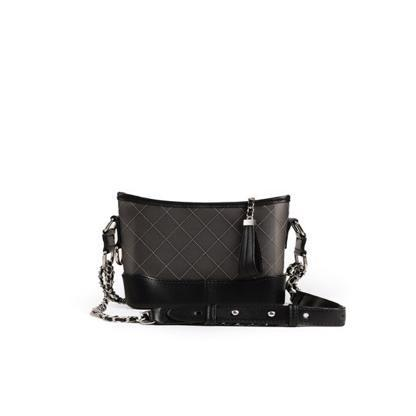not trash: (93, 192, 343, 328)
